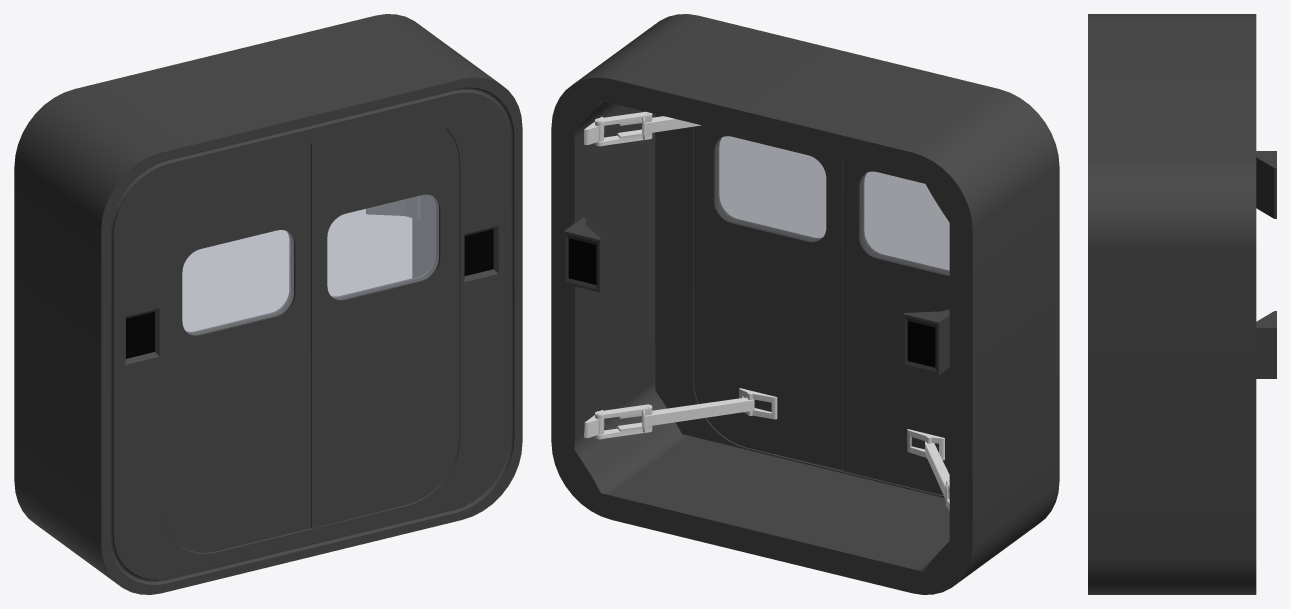
The model's file is Door.gltf.
3 renders of one model, left to right at view 1: azimuth 30°, elevation 25°; view 2: azimuth 150°, elevation 25°; view 3: azimuth 270°, elevation 25°, orthographic. The views are drawn at different scales.
Visible parts, largest first — view 1: door-frame, door-right, door-left; view 2: door-frame, door-right, door-left, hinge-right-2-arm, hinge-right-1-arm, hinge-left-2-arm; view 3: door-frame.
Boxes of the visible parts, <box> form: door-frame: <box>14,14,522,594</box>; door-right: <box>310,118,459,528</box>; door-left: <box>163,143,310,552</box>; door-frame: <box>551,14,1059,594</box>; door-right: <box>693,125,842,470</box>; door-left: <box>843,160,949,494</box>; hinge-right-2-arm: <box>642,116,754,432</box>; hinge-right-1-arm: <box>595,111,652,439</box>; hinge-left-2-arm: <box>925,441,949,506</box>; door-frame: <box>1088,14,1276,594</box>.
Bounding box in the file's own units: 2.8 × 2.8 × 1.12.
